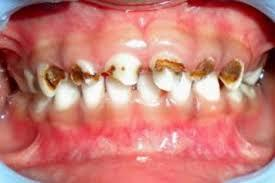Caries: (152, 51, 189, 89), (36, 63, 68, 93), (193, 54, 223, 85), (13, 64, 39, 93), (221, 60, 247, 88), (71, 62, 100, 87)
